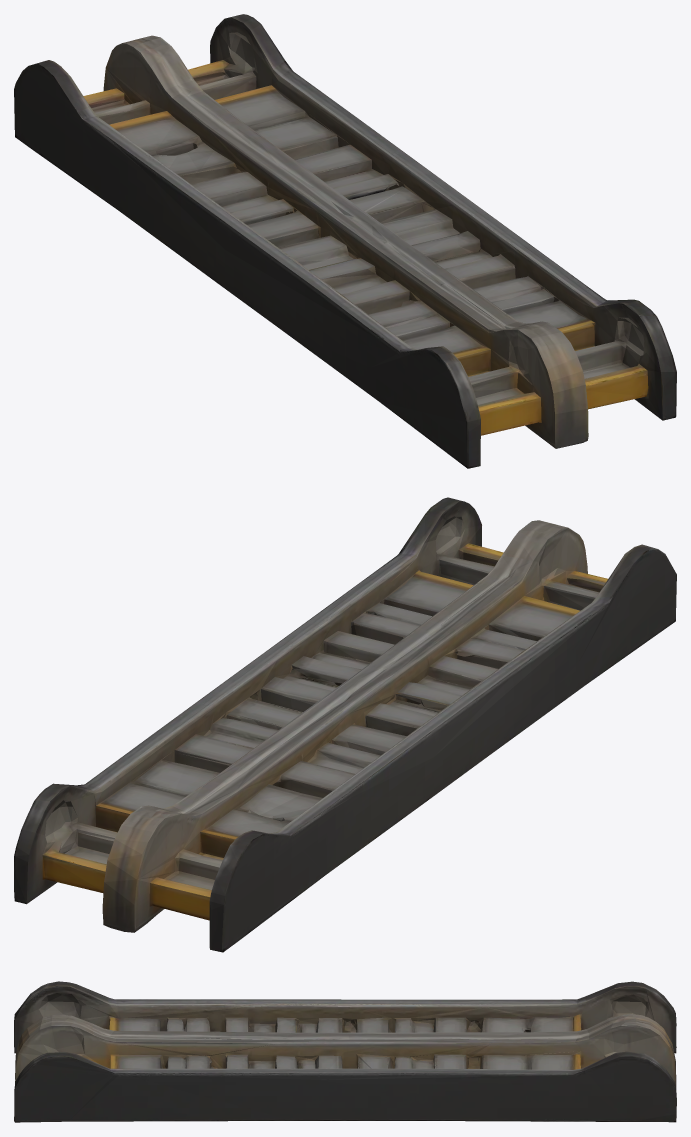
The picture shows the model from 3 angles, top to bottom: view 1: azimuth 30°, elevation 25°; view 2: azimuth 150°, elevation 25°; view 3: azimuth 270°, elevation 25°; orthographic projection. The views are drawn at different scales.
Parts seen in each view (by area): view 1: geometry_0; view 2: geometry_0; view 3: geometry_0.
Part boxes in pixels (<box>): geometry_0: <box>14,14,676,468</box>; geometry_0: <box>14,497,676,952</box>; geometry_0: <box>14,981,676,1122</box>.
Size of the model in its own units: 0.2671 by 0.1157 by 1.
1 material, 1 textured.
